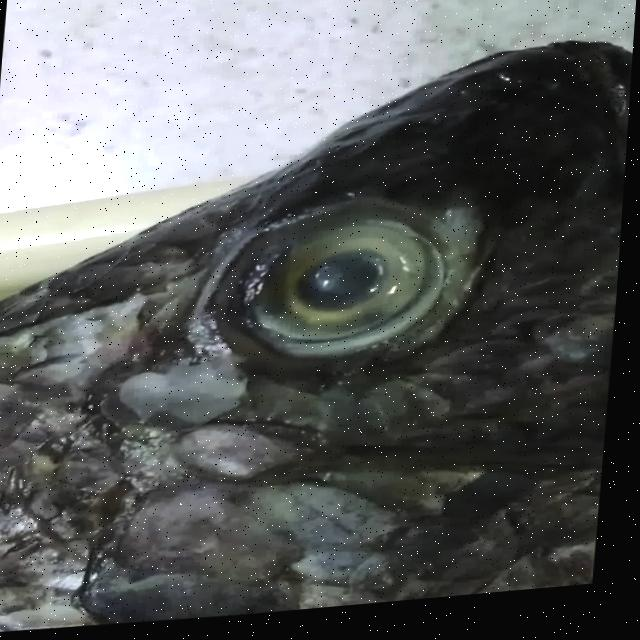Non-Fresh: (224, 190, 492, 400)
